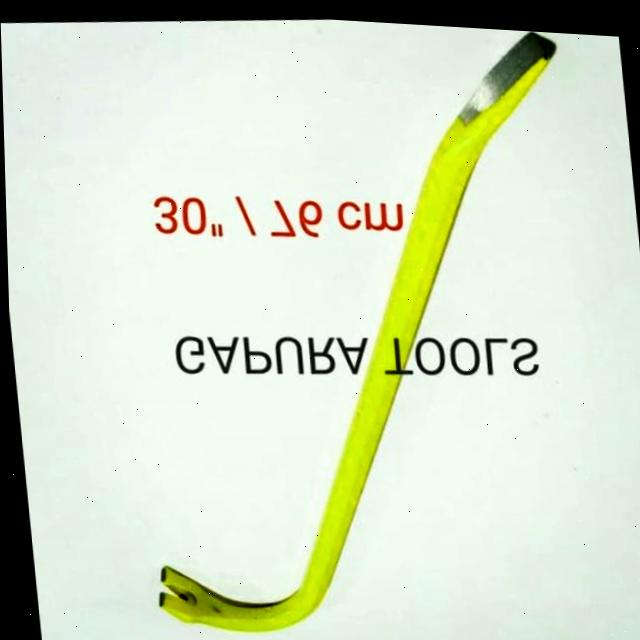crow bar: (141, 24, 568, 640)
